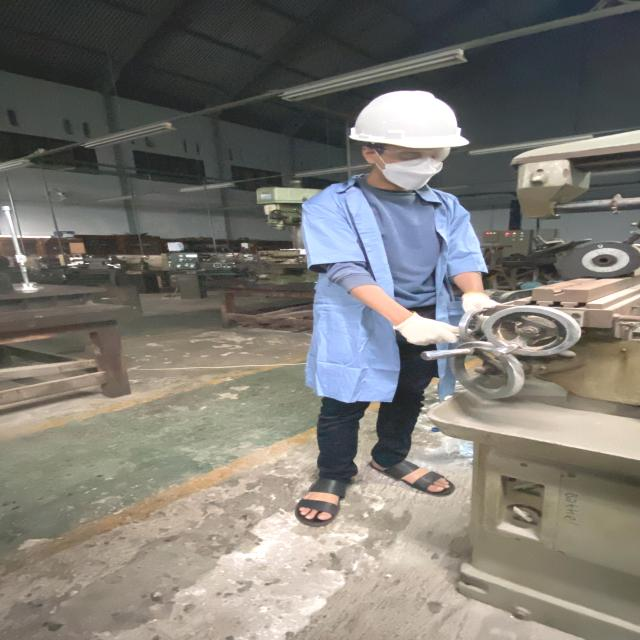face_mask: (380, 146, 456, 188)
glasses: (384, 146, 456, 167)
hand_glove: (396, 312, 472, 351)
head_helmet: (349, 89, 469, 147)
person: (292, 88, 517, 530)
